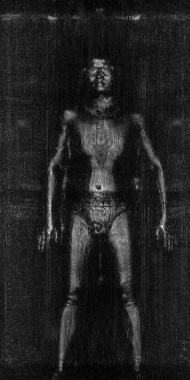gun: (126, 171, 149, 202)
